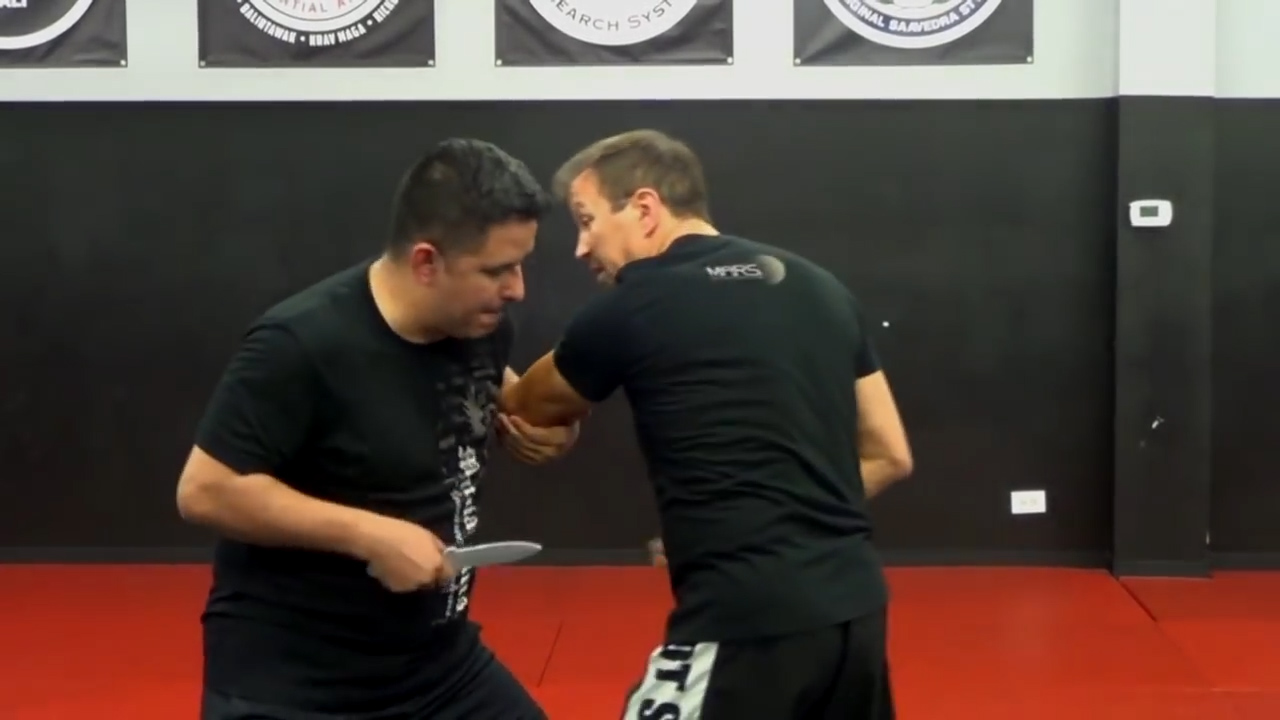knife: (359, 527, 551, 591)
